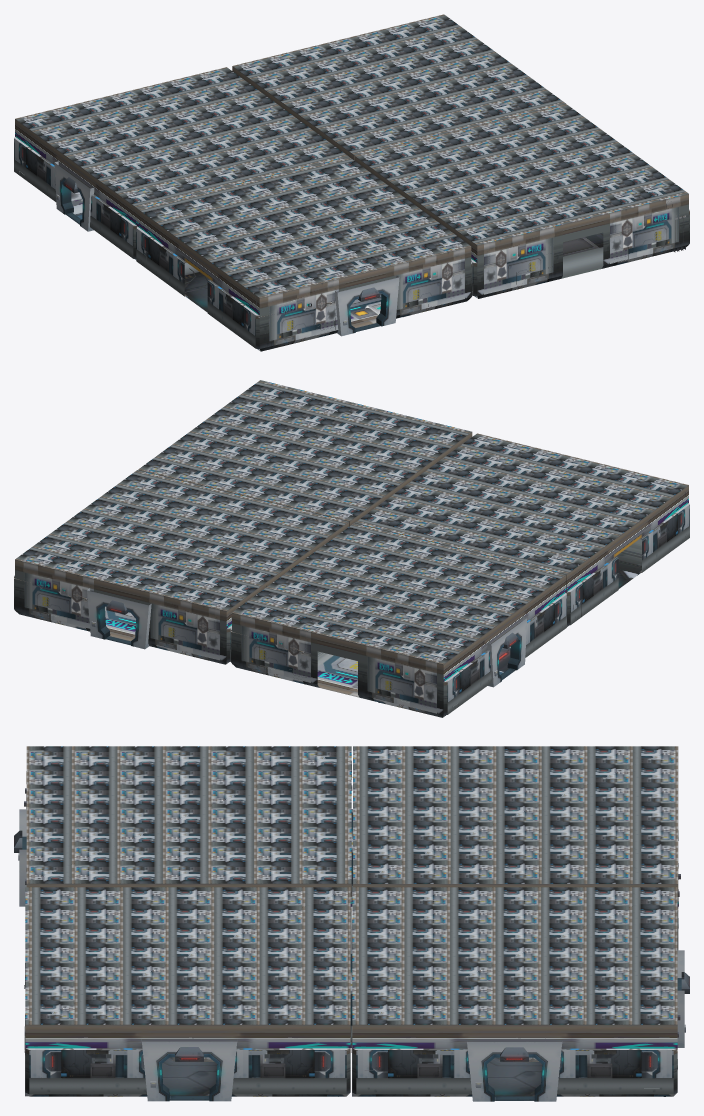
File: Combined_Mesh_root_scene__9_f65a131e__ZombiesII_laboratory_04_d_1b2a1172_c1f257_part002.obj
3 renders of one model, top to bottom at view 1: azimuth 30°, elevation 25°; view 2: azimuth 150°, elevation 25°; view 3: azimuth 270°, elevation 25°, orthographic. The views are drawn at different scales.
Size of the model in its own units: 83.99 by 10.21 by 83.14.
Materials: 233 (233 with a texture image).
